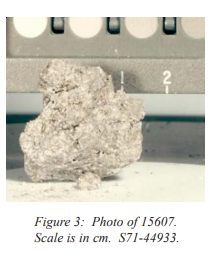Basalt: (32, 58, 148, 198)
